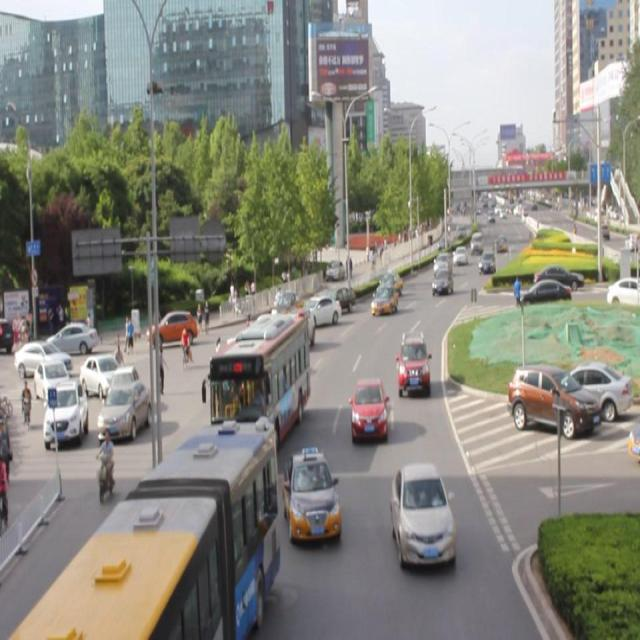car: (391, 464, 453, 566), (284, 450, 338, 541), (350, 376, 386, 441), (234, 320, 287, 361), (396, 332, 430, 393), (280, 310, 314, 360), (211, 345, 245, 395), (255, 335, 294, 376), (248, 315, 278, 358), (301, 294, 340, 326), (321, 283, 355, 312), (370, 284, 397, 318), (376, 271, 402, 297), (430, 266, 452, 296)
van: (9, 417, 277, 640), (209, 313, 310, 442)
